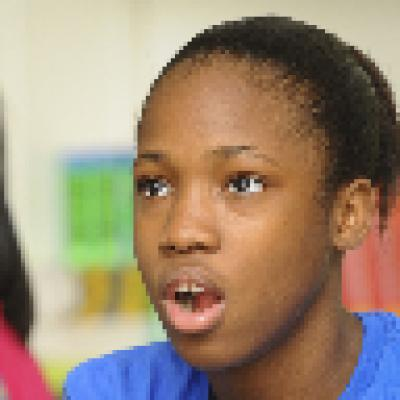surprise: (131, 49, 338, 354)
